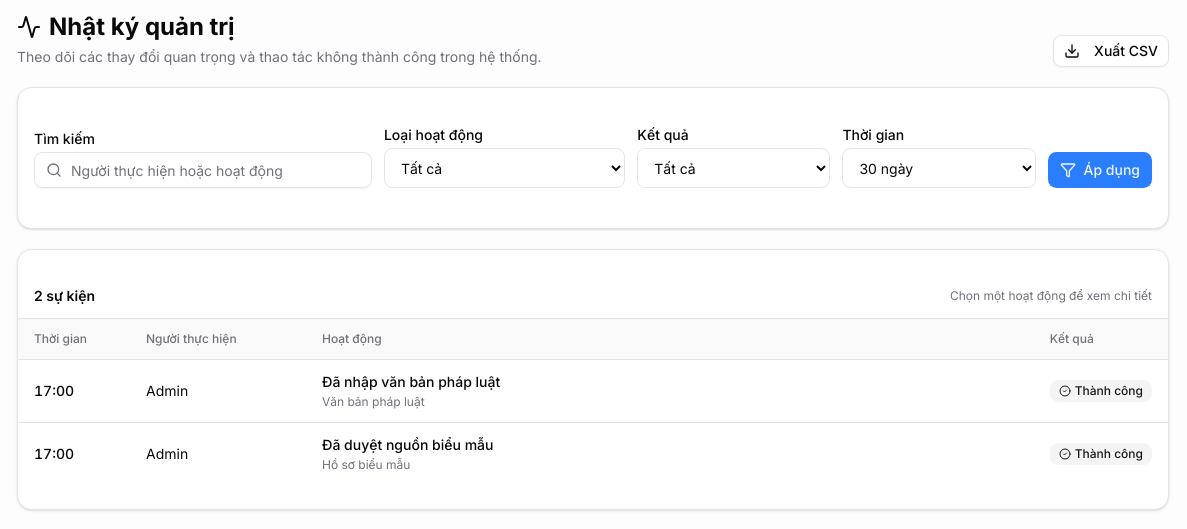
Test: AdminActivityPage › filters legacy API results locally when the running API ignores new filters
Expected: the text "Đã duyệt nguồn biểu mẫu" is shown, [322,436,493,453]
Select "Nạp và thu thập dữ liệu" in the dropdown labelled "Loại hoạt động": (505, 168) [384,148,625,188]
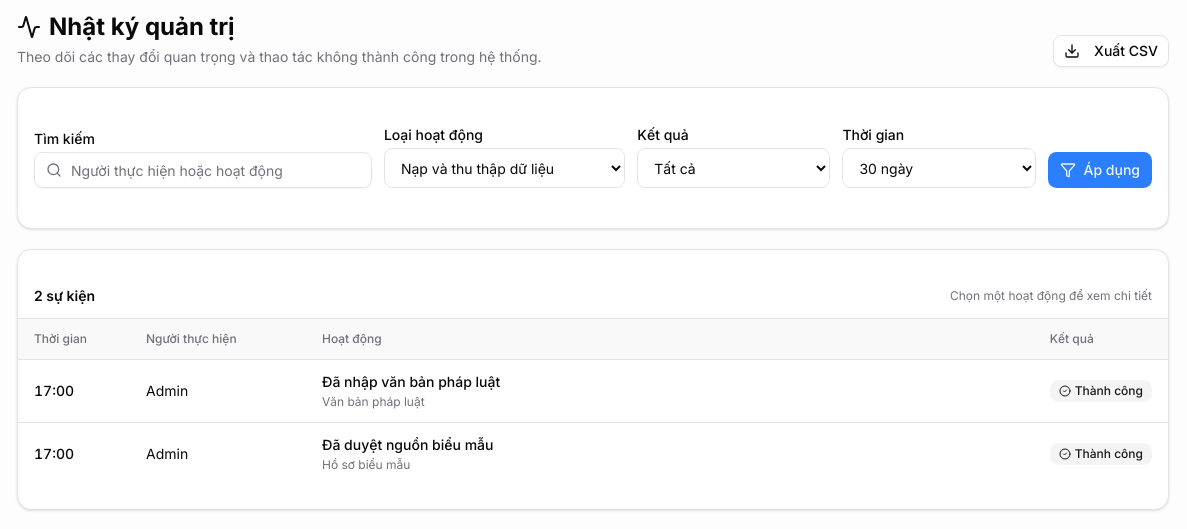
Click the button with aria-label "Lọc nhật ký": click(1100, 170) [1048,152,1152,188]
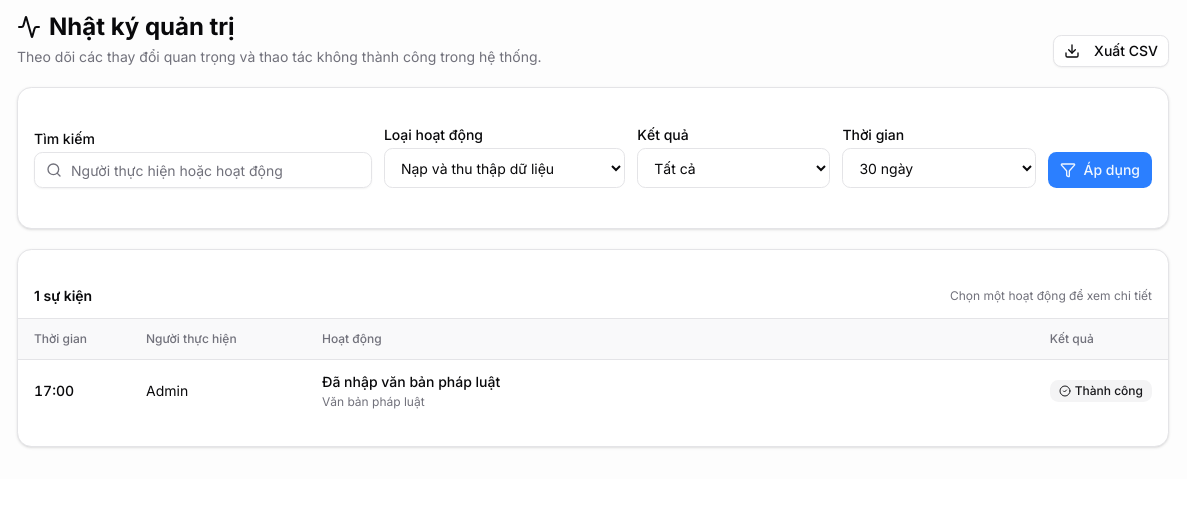
Expected: the text "Đã nhập văn bản pháp luật" is shown, [322,373,500,390]
Now the button "Đã duyệt nguồn biểu mẫu" is gone
Now the text "1 sự kiện" is shown, box [34,286,92,306]
